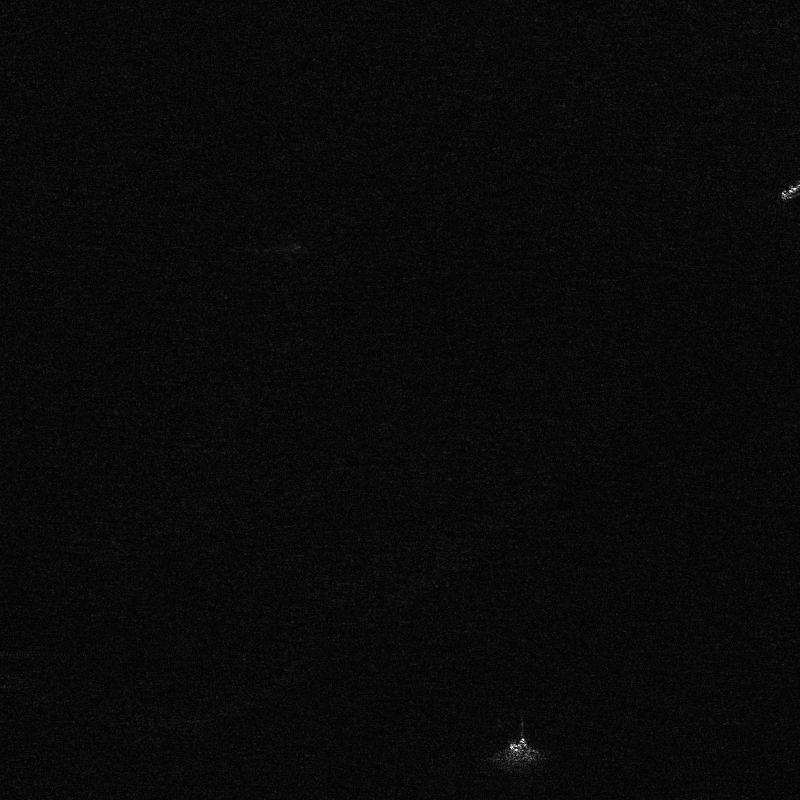ship: (780, 179, 799, 200)
